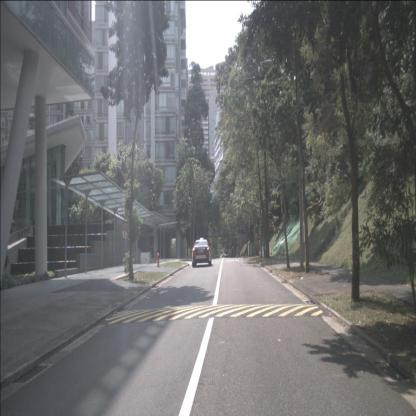movable_object-trafficcone: (270, 246, 272, 256), (281, 247, 283, 256)
vehicle-car: (192, 240, 212, 268), (222, 250, 229, 258)
